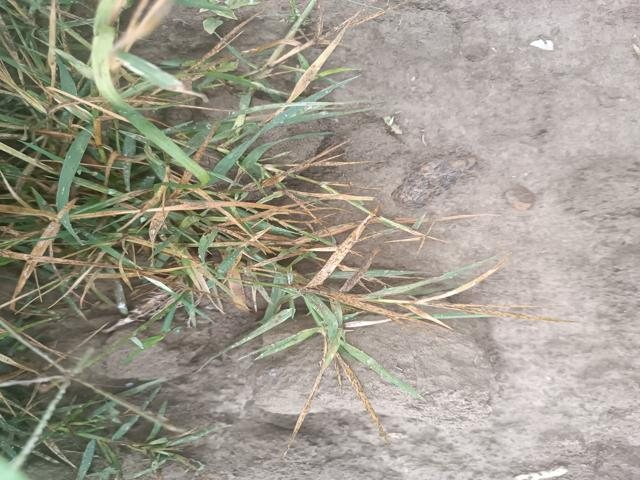bad weed: (0, 19, 380, 480)
